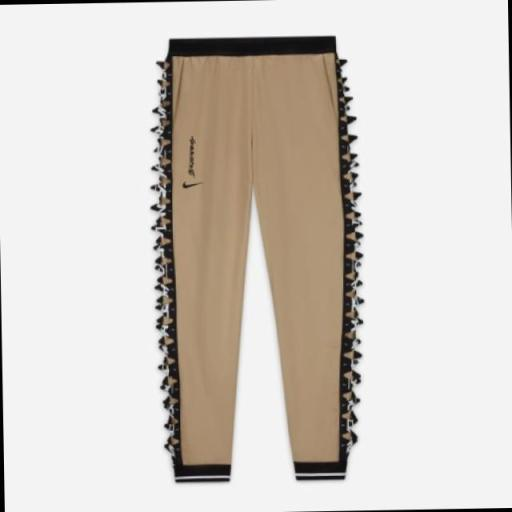Nike: (180, 178, 207, 193)
